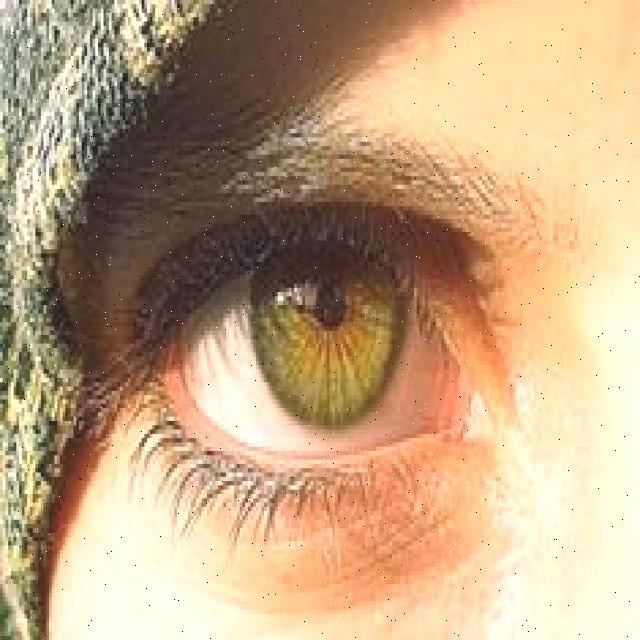Normal: (117, 195, 556, 550)
